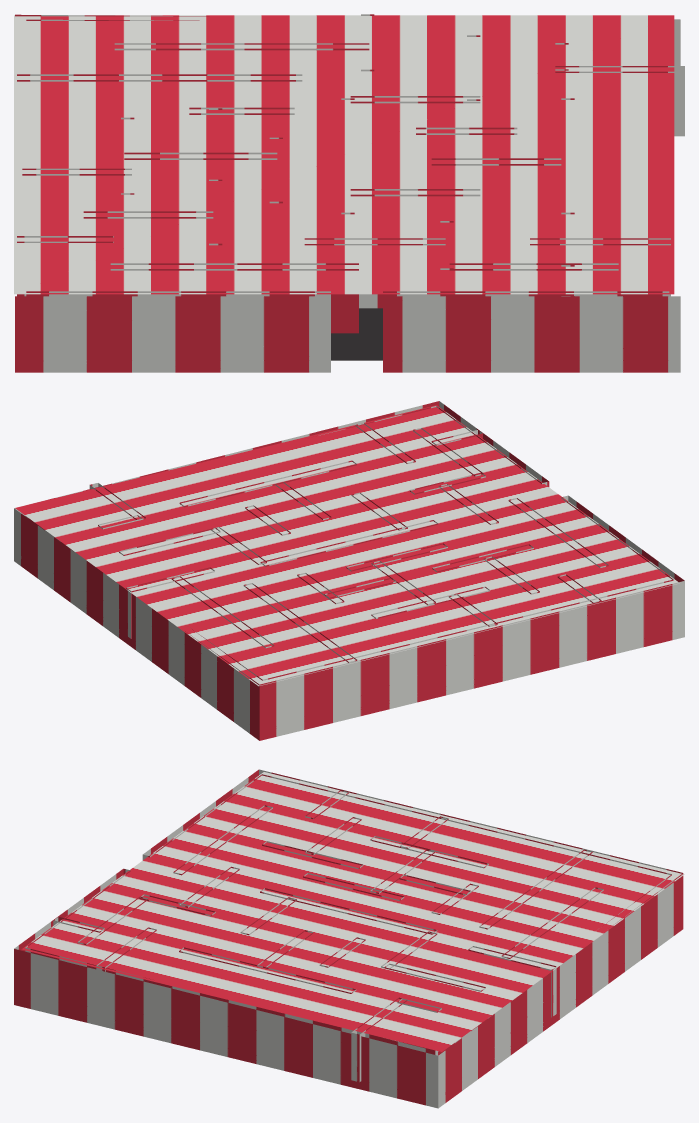
Rendered from Maze.fbx.
3 views of the same model, one above another, from view 1: azimuth 30°, elevation 25°; view 2: azimuth 150°, elevation 25°; view 3: azimuth 270°, elevation 25° (orthographic). The views are drawn at different scales.
Visible parts, largest first — view 1: Maze_Roof, Maze_Wall, Maze_Floor; view 2: Maze_Roof, Maze_Wall; view 3: Maze_Roof, Maze_Wall.
Part boxes in pixels (<box>): Maze_Roof: <box>14,15,674,294</box>; Maze_Wall: <box>15,14,684,372</box>; Maze_Floor: <box>331,308,382,360</box>; Maze_Roof: <box>15,405,679,686</box>; Maze_Wall: <box>14,401,684,740</box>; Maze_Roof: <box>21,772,684,1051</box>; Maze_Wall: <box>14,769,683,1108</box>.
Bounding box in the file's own units: 8155 × 756 × 8176.
